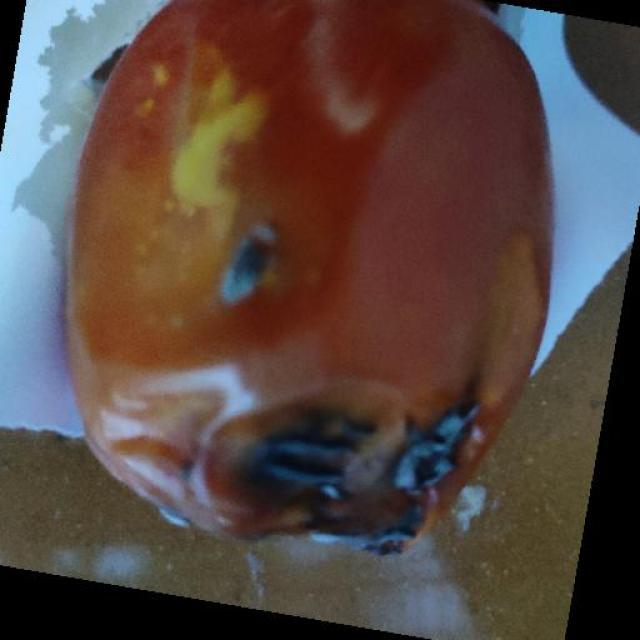Rotten Tomato: (46, 18, 548, 600)
